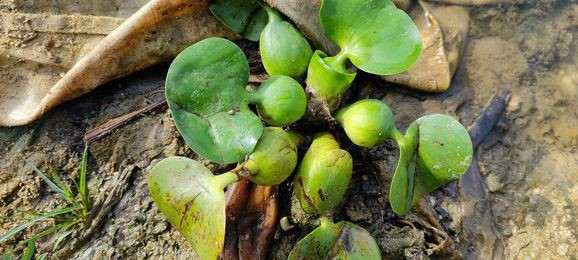water_hyacinth: (147, 1, 473, 260)
